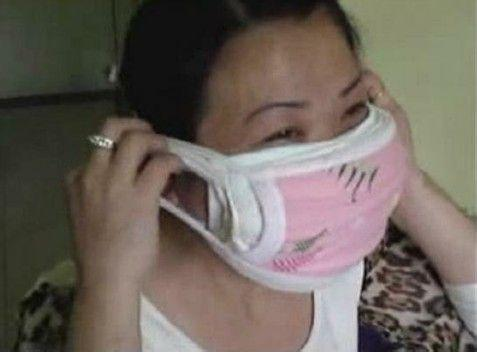OK: (206, 84, 393, 271)
